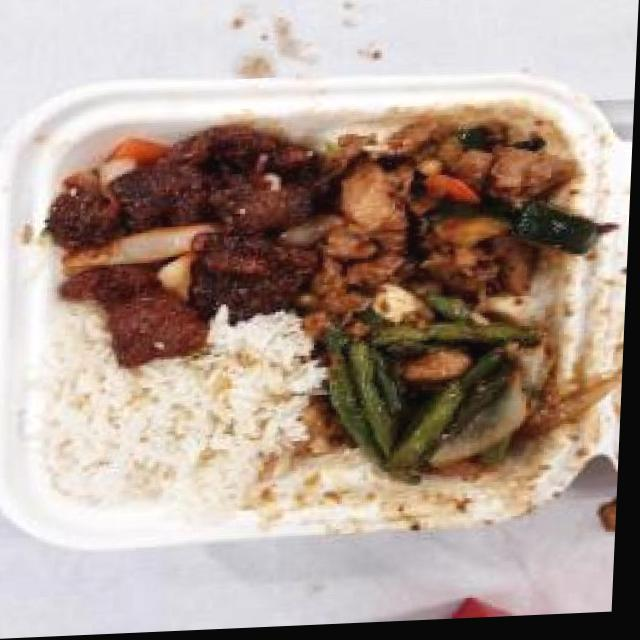Beijing Beef: (47, 116, 331, 361)
Kung Pao Chicken: (314, 107, 606, 317)
String Bean Chicken Breast: (320, 297, 582, 491)
White Steamed Rice: (47, 348, 317, 521)
